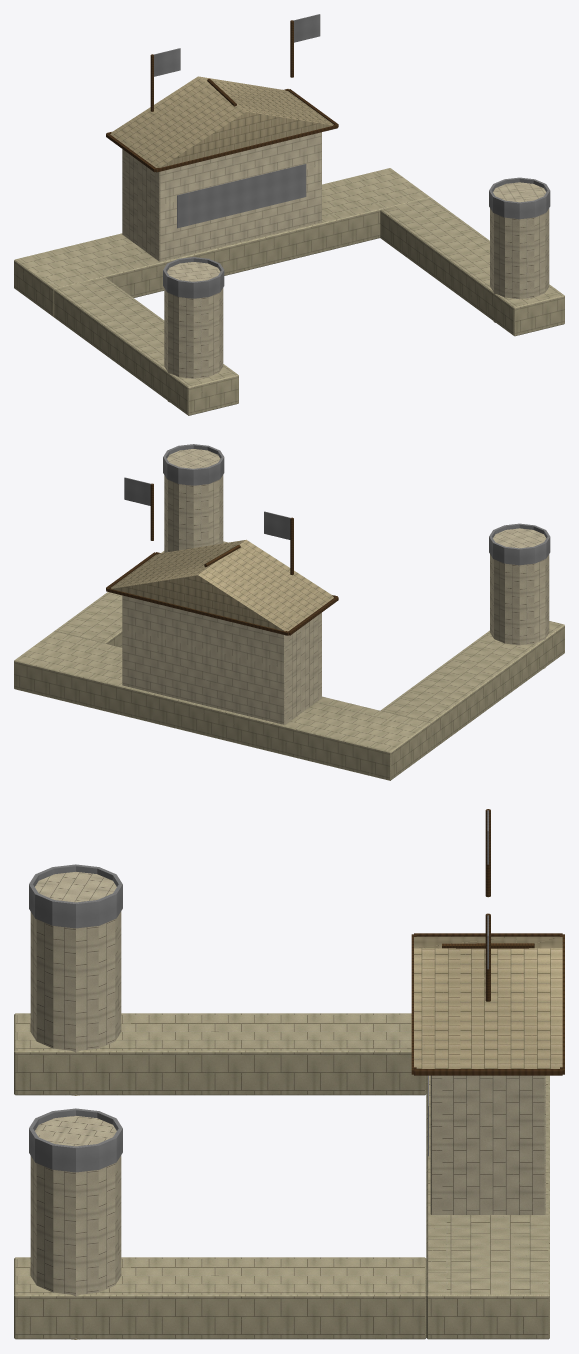
Rendered from harbor-israelite-4f79d470.glb.
The picture shows the model from 3 angles, top to bottom: view 1: azimuth 30°, elevation 25°; view 2: azimuth 150°, elevation 25°; view 3: azimuth 270°, elevation 25°; orthographic projection. The views are drawn at different scales.
Visible parts, largest first — view 1: LOD0; view 2: LOD0; view 3: LOD0.
Part boxes in pixels (bbox=[...]): LOD0: bbox=[14, 14, 564, 415]; LOD0: bbox=[14, 444, 564, 780]; LOD0: bbox=[14, 809, 564, 1339].
Size of what is drawn, in the model's own units: 1.63 by 0.9 by 1.34.
Materials: 2 (2 with a texture image).
